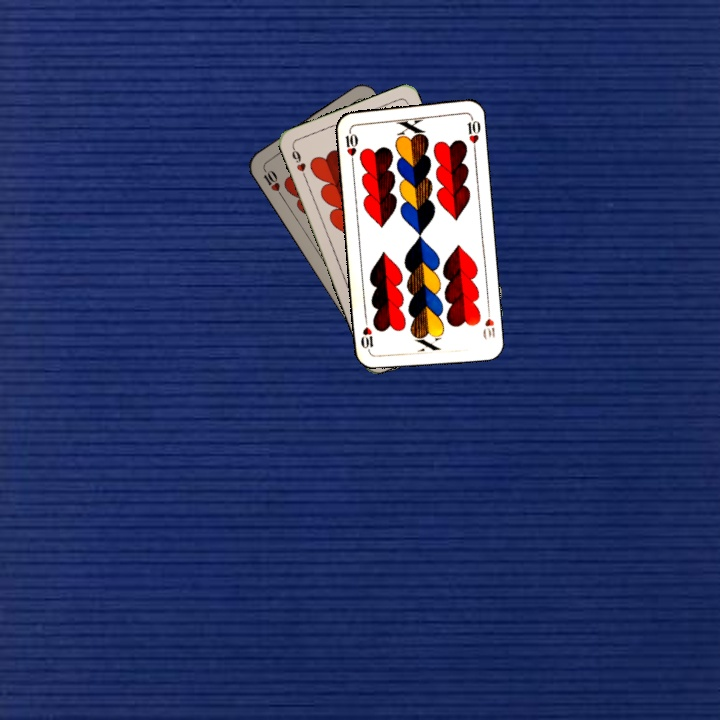H10: (259, 163, 285, 200), (478, 303, 498, 342), (341, 125, 360, 165)
H9: (288, 143, 309, 182)
